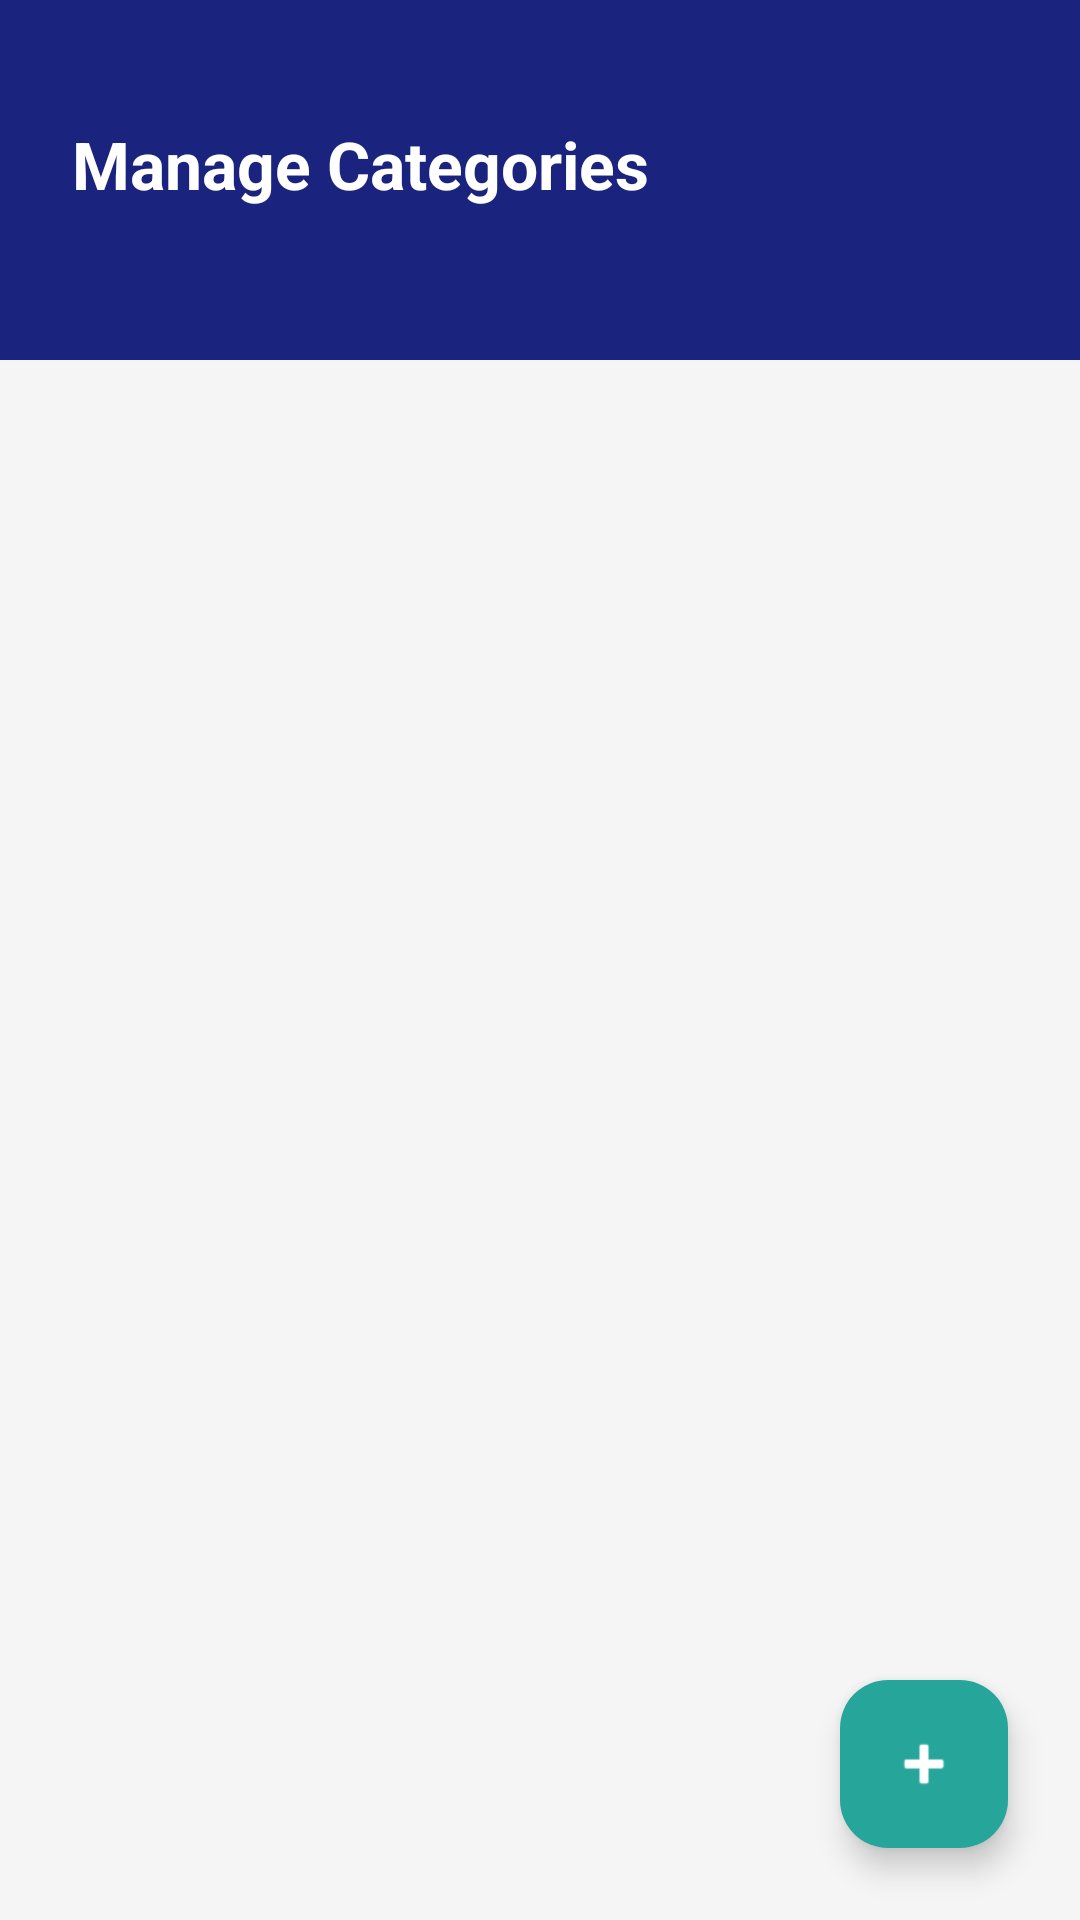

Named icons in this screenshot (1080x1920) and their centers, (x,y):
Add Category: (924,1764)
